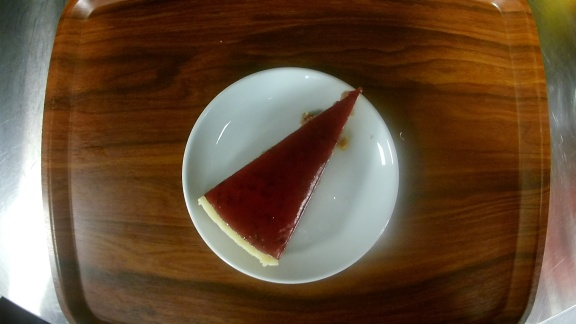frambuazlipasta: (181, 66, 401, 281)
